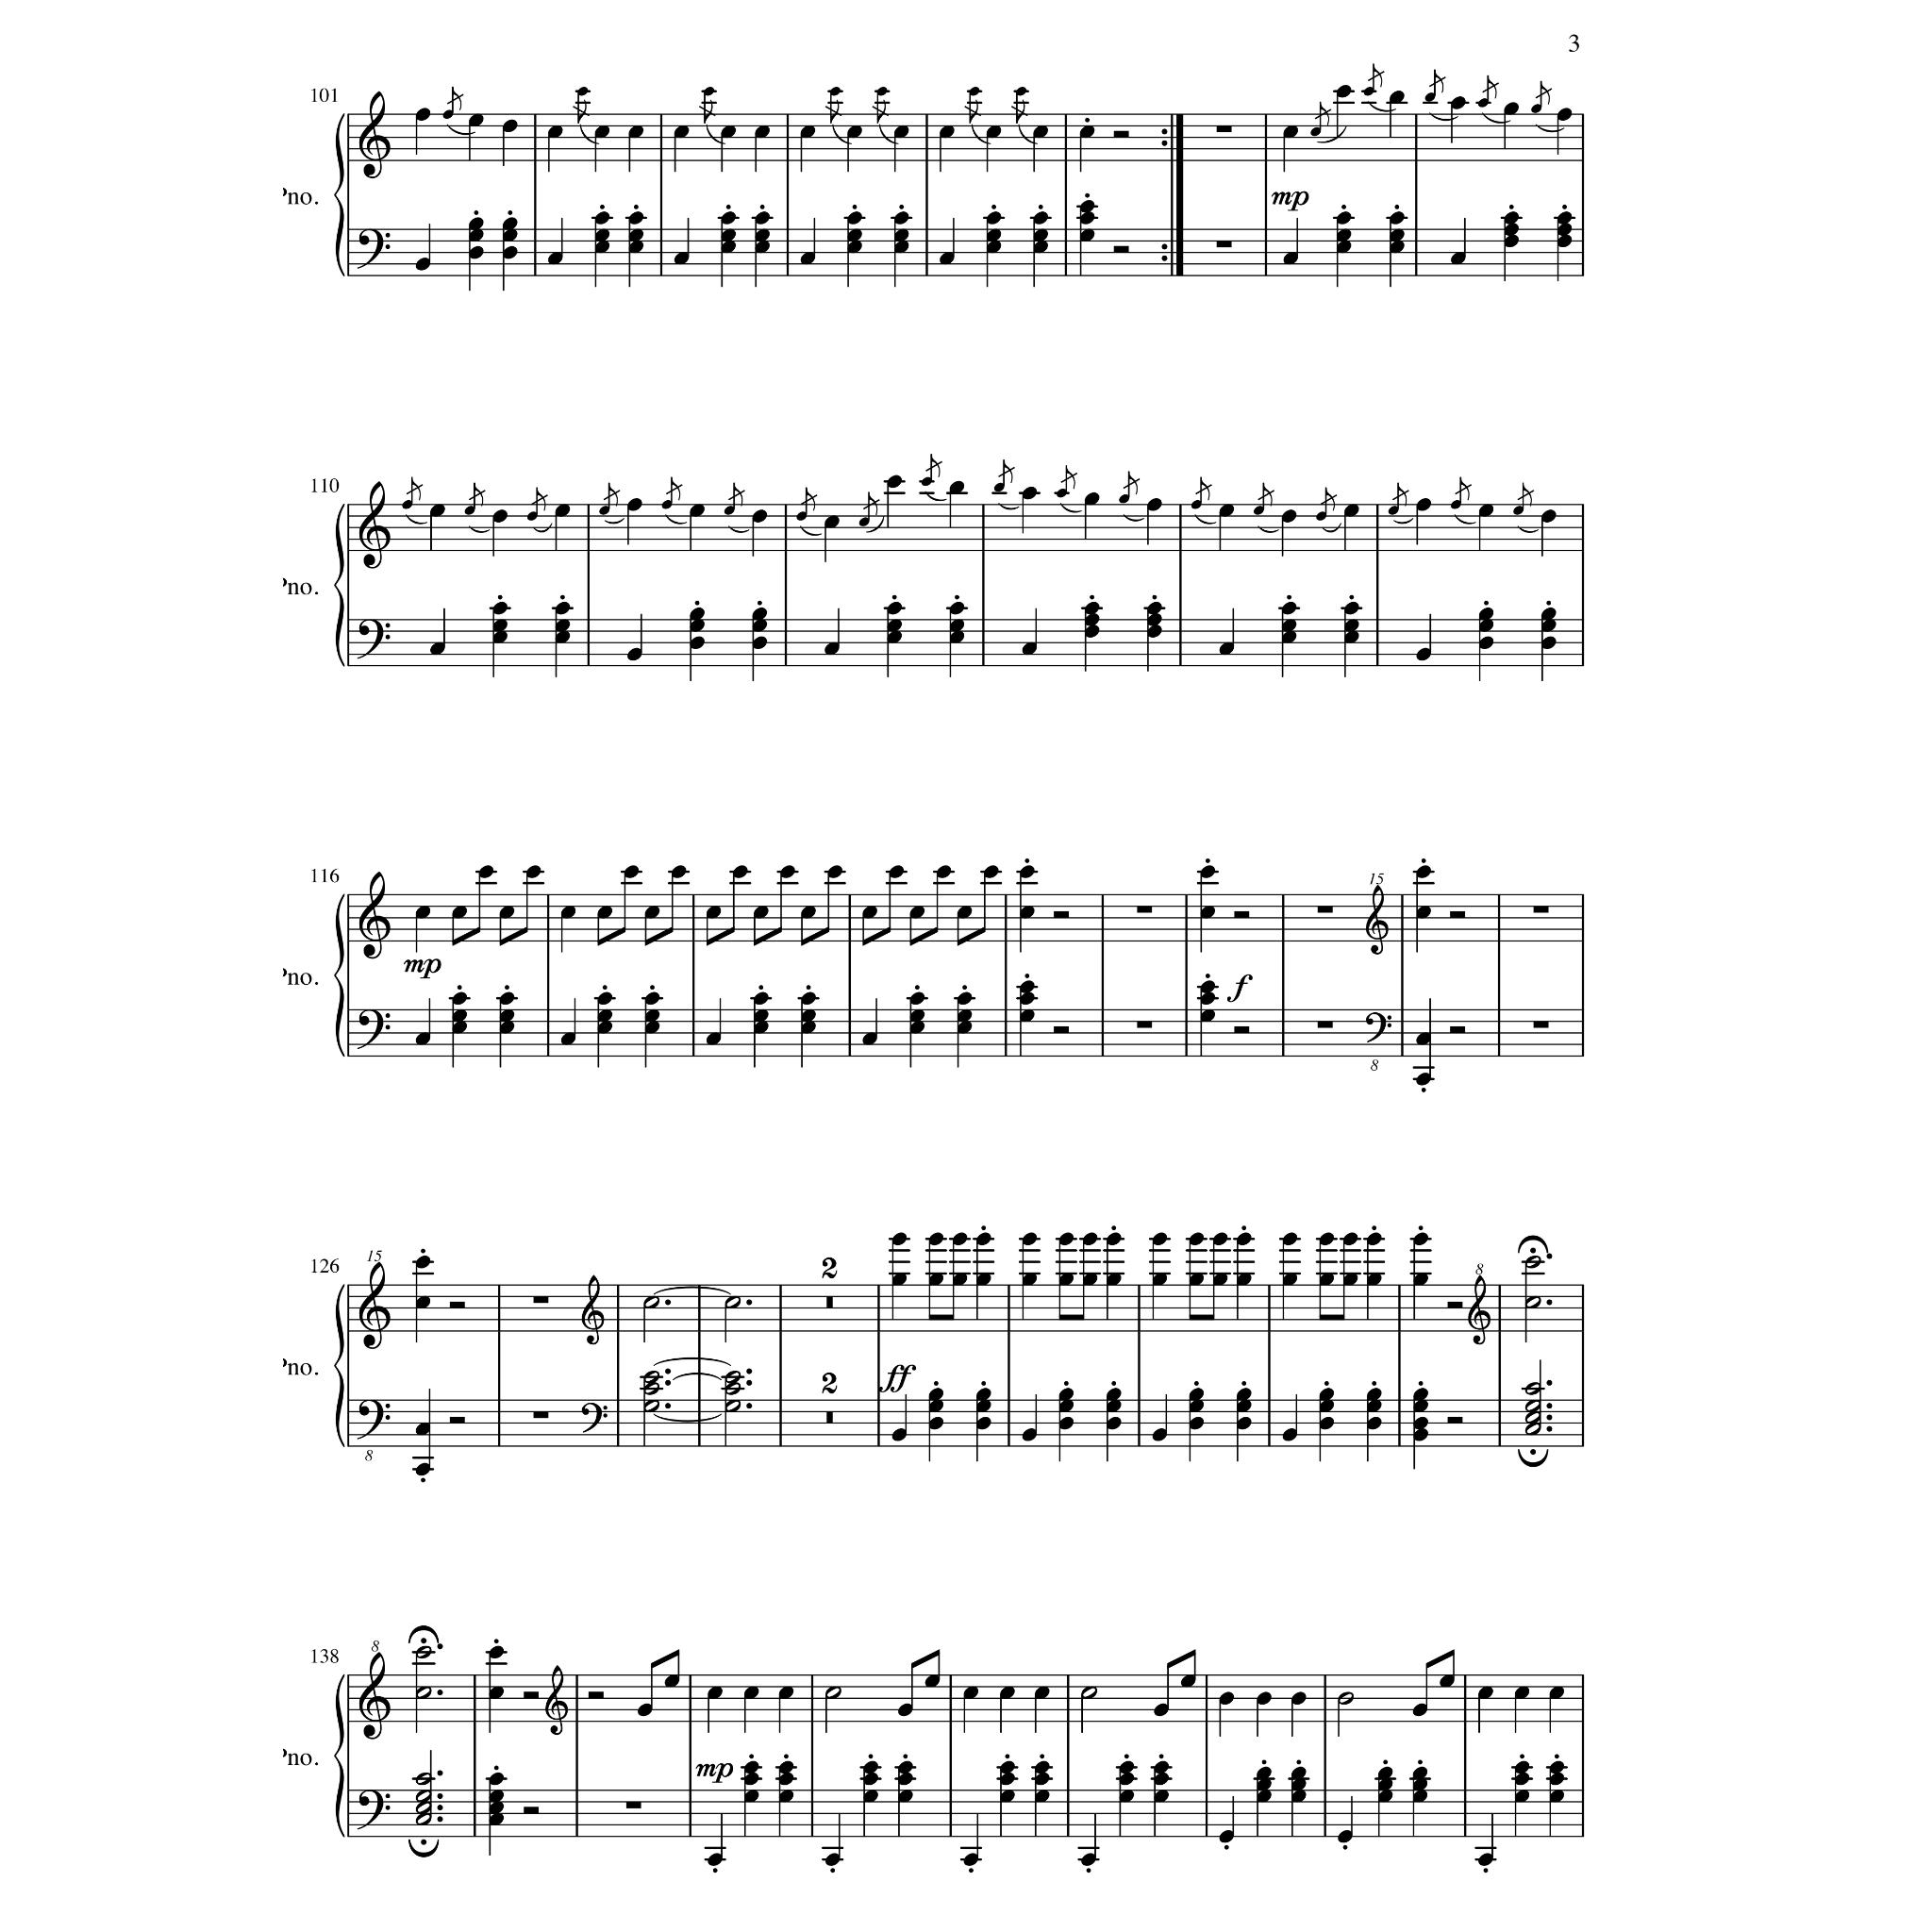brace: (333, 113, 345, 278), (333, 504, 345, 669), (333, 893, 345, 1058), (333, 1674, 345, 1838), (333, 1284, 345, 1447)
fClef: (357, 228, 391, 269), (357, 619, 391, 660), (357, 1008, 391, 1049), (357, 1399, 391, 1440), (357, 1790, 391, 1831)
flag8thDown: (571, 99, 591, 131), (870, 99, 890, 131), (964, 99, 982, 131), (1010, 99, 1028, 131), (824, 99, 842, 131), (699, 99, 717, 131)
flag8thUp: (1256, 476, 1276, 508), (602, 476, 621, 508), (1313, 96, 1332, 126), (1481, 69, 1500, 99), (446, 81, 465, 111), (1366, 57, 1384, 88), (1430, 62, 1447, 94), (1060, 458, 1077, 490), (1392, 476, 1410, 508), (1516, 476, 1534, 508), (469, 476, 487, 508), (862, 485, 879, 517), (998, 453, 1016, 485), (925, 448, 943, 479), (727, 476, 745, 508), (1534, 74, 1552, 104), (1320, 481, 1338, 511), (1194, 471, 1212, 501), (1122, 465, 1139, 495), (1454, 471, 1472, 501), (531, 481, 548, 511), (665, 471, 683, 501), (405, 471, 423, 501), (800, 481, 817, 511)
gClef: (359, 90, 391, 179), (359, 481, 391, 570), (359, 872, 391, 961), (359, 1261, 391, 1350), (359, 1652, 391, 1741)
noteheadBlack: (672, 251, 690, 265), (1539, 607, 1557, 621), (731, 865, 748, 879), (1412, 1428, 1430, 1442), (1412, 1272, 1430, 1286), (1412, 1231, 1430, 1246), (1412, 1399, 1430, 1414), (1412, 1387, 1430, 1401), (1341, 1231, 1359, 1246), (1341, 1272, 1359, 1286), (1283, 251, 1299, 265), (1079, 200, 1095, 214), (1557, 223, 1573, 237), (1389, 90, 1405, 104), (1451, 251, 1467, 265), (1504, 103, 1520, 117), (1504, 223, 1520, 237), (1451, 96, 1467, 110), (547, 251, 563, 265), (501, 246, 517, 260), (501, 218, 517, 232), (467, 246, 483, 260), (467, 218, 483, 232), (939, 251, 955, 265), (800, 251, 816, 265), (1345, 602, 1361, 616), (1219, 642, 1235, 656), (1281, 602, 1297, 616), (1083, 602, 1099, 616), (1083, 612, 1099, 626), (1083, 492, 1099, 506), (1021, 642, 1037, 656), (1021, 487, 1037, 501), (1146, 602, 1162, 616), (1146, 612, 1162, 626), (1146, 497, 1162, 511), (1415, 648, 1431, 662), (1415, 497, 1431, 511), (1477, 607, 1493, 621), (554, 602, 570, 616), (690, 607, 706, 621), (626, 648, 642, 662), (626, 497, 642, 511), (492, 602, 508, 616), (428, 642, 444, 656), (886, 602, 902, 616), (824, 642, 840, 656), (948, 602, 964, 616), (752, 607, 768, 621), (1200, 865, 1215, 879), (936, 865, 952, 879), (1019, 865, 1035, 879), (982, 865, 998, 879), (1415, 1072, 1431, 1086), (1415, 865, 1431, 879), (525, 865, 541, 879), (888, 865, 904, 879), (623, 865, 639, 879), (478, 865, 494, 879), (780, 865, 796, 879), (826, 865, 842, 879), (671, 865, 686, 879), (1281, 1428, 1297, 1442), (1281, 1231, 1297, 1246), (1281, 1272, 1297, 1286), (1318, 1387, 1334, 1401), (1318, 1399, 1334, 1414), (1318, 1231, 1334, 1246), (1318, 1272, 1334, 1286), (1152, 1428, 1168, 1442), (1189, 1387, 1205, 1401), (1189, 1399, 1205, 1414), (1152, 1272, 1168, 1286), (1189, 1231, 1205, 1246), (1189, 1272, 1205, 1286), (1152, 1231, 1168, 1246), (1235, 1387, 1251, 1401), (1235, 1399, 1251, 1414), (1235, 1231, 1251, 1246), (1235, 1272, 1251, 1286), (1212, 1231, 1228, 1246), (1212, 1272, 1228, 1286), (1366, 1387, 1382, 1401), (1366, 1399, 1382, 1414), (1366, 1231, 1382, 1246), (1366, 1272, 1382, 1286), (414, 1463, 430, 1477), (414, 1422, 430, 1437), (1021, 1272, 1037, 1286), (1021, 1231, 1037, 1246), (1021, 1428, 1037, 1442), (977, 1387, 993, 1401), (977, 1399, 993, 1414), (977, 1231, 993, 1246), (977, 1272, 993, 1286), (952, 1231, 968, 1246), (1058, 1399, 1074, 1414), (1081, 1231, 1097, 1246), (1081, 1272, 1097, 1286), (1058, 1387, 1074, 1401), (1058, 1231, 1074, 1246), (1058, 1272, 1074, 1286), (892, 1272, 908, 1286), (892, 1231, 908, 1246), (892, 1428, 908, 1442), (952, 1272, 968, 1286), (927, 1272, 943, 1286), (927, 1231, 943, 1246), (927, 1399, 943, 1414), (927, 1387, 943, 1401), (1292, 1789, 1307, 1803), (1219, 1829, 1235, 1844), (1180, 1674, 1196, 1688), (1256, 1778, 1272, 1792), (1256, 1789, 1272, 1803), (1256, 1766, 1272, 1780), (1033, 1760, 1049, 1775), (1033, 1789, 1049, 1803), (1000, 1760, 1016, 1775), (1000, 1789, 1016, 1803), (1118, 1789, 1134, 1803), (1118, 1760, 1134, 1775), (1154, 1789, 1169, 1803), (1154, 1760, 1169, 1775), (1548, 1760, 1564, 1775), (1548, 1789, 1564, 1803), (1338, 1829, 1353, 1844), (1292, 1766, 1307, 1780), (1438, 1674, 1454, 1688), (1292, 1778, 1307, 1792), (1412, 1766, 1428, 1780), (1412, 1778, 1428, 1792), (1412, 1789, 1428, 1803), (1378, 1766, 1394, 1780), (1378, 1778, 1394, 1792), (1378, 1789, 1394, 1803), (663, 1674, 679, 1688), (488, 1645, 504, 1660), (488, 1789, 504, 1803), (863, 1789, 879, 1803), (924, 1674, 939, 1688), (897, 1760, 913, 1775), (897, 1789, 913, 1803), (863, 1760, 879, 1775), (743, 1760, 759, 1775), (743, 1789, 759, 1803), (778, 1789, 794, 1803), (778, 1760, 794, 1775), (672, 126, 690, 138), (1539, 619, 1557, 632), (1539, 637, 1557, 649), (1539, 510, 1557, 522), (559, 1033, 577, 1046), (559, 906, 577, 918), (1412, 1417, 1430, 1430), (1106, 1387, 1120, 1401), (1106, 1399, 1120, 1414), (1106, 1272, 1120, 1286), (1106, 1231, 1120, 1246), (1514, 1789, 1529, 1803), (1514, 1760, 1529, 1775), (1283, 126, 1299, 138), (1079, 230, 1095, 242), (1079, 126, 1095, 138), (985, 212, 1001, 225), (1079, 212, 1095, 225), (985, 241, 1001, 253), (985, 126, 1001, 138), (985, 230, 1001, 242), (1557, 212, 1573, 225), (1557, 235, 1573, 248), (1557, 108, 1573, 120), (1504, 212, 1520, 225), (1389, 241, 1405, 253), (1389, 230, 1405, 242), (1389, 212, 1405, 225), (1336, 241, 1352, 253), (1336, 230, 1352, 242), (1336, 212, 1352, 225), (1504, 235, 1520, 248), (1336, 85, 1352, 97), (594, 126, 610, 138), (594, 241, 610, 253), (594, 230, 610, 242), (594, 212, 610, 225), (628, 212, 644, 225), (628, 126, 644, 138), (628, 241, 644, 253), (628, 230, 644, 242), (414, 108, 430, 120), (414, 258, 430, 271), (501, 120, 517, 133), (501, 230, 517, 242), (547, 126, 563, 138), (467, 230, 483, 242), (467, 115, 483, 127), (847, 126, 863, 138), (847, 241, 863, 253), (847, 230, 863, 242), (847, 212, 863, 225), (939, 126, 955, 138), (893, 126, 909, 138), (893, 241, 909, 253), (893, 230, 909, 242), (893, 212, 909, 225), (720, 230, 736, 242), (754, 212, 770, 225), (754, 230, 770, 242), (754, 241, 770, 253), (754, 126, 770, 138), (720, 212, 736, 225), (720, 241, 736, 253), (720, 126, 736, 138), (800, 126, 816, 138), (1345, 619, 1361, 632), (1219, 504, 1235, 517), (1345, 632, 1361, 644), (1345, 504, 1361, 517), (1281, 619, 1297, 632), (1281, 632, 1297, 644), (1281, 510, 1297, 522), (1083, 625, 1099, 637), (1146, 625, 1162, 637), (1477, 619, 1493, 632), (1477, 637, 1493, 649), (1477, 504, 1493, 517), (554, 619, 570, 632), (554, 632, 570, 644), (554, 504, 570, 517), (690, 619, 706, 632), (690, 637, 706, 649), (690, 504, 706, 517), (492, 619, 508, 632), (492, 632, 508, 644), (492, 510, 508, 522), (428, 504, 444, 517), (886, 619, 902, 632), (886, 632, 902, 644), (886, 476, 902, 488), (824, 517, 840, 529), (948, 619, 964, 632), (948, 632, 964, 644), (948, 481, 964, 494), (752, 619, 768, 632), (752, 637, 768, 649), (752, 510, 768, 522), (1200, 1010, 1215, 1023), (1200, 993, 1215, 1005), (1200, 982, 1215, 994), (1200, 906, 1215, 918), (955, 993, 971, 1005), (955, 1010, 971, 1023), (955, 1021, 971, 1033), (955, 906, 971, 918), (909, 993, 925, 1005), (909, 1010, 925, 1023), (909, 1021, 925, 1033), (909, 906, 925, 918), (1019, 982, 1035, 994), (1019, 993, 1035, 1005), (1019, 1010, 1035, 1023), (1019, 906, 1035, 918), (1415, 1033, 1431, 1046), (1415, 906, 1431, 918), (644, 993, 660, 1005), (644, 1010, 660, 1023), (644, 1021, 660, 1033), (644, 906, 660, 918), (596, 993, 612, 1005), (596, 1010, 612, 1023), (596, 1021, 612, 1033), (596, 906, 612, 918), (414, 1033, 430, 1046), (414, 906, 430, 918), (499, 993, 515, 1005), (499, 1010, 515, 1023), (499, 1021, 515, 1033), (499, 906, 515, 918), (451, 993, 467, 1005), (451, 1010, 467, 1023), (451, 1021, 467, 1033), (451, 906, 467, 918), (800, 993, 816, 1005), (800, 1010, 816, 1023), (800, 1021, 816, 1033), (800, 906, 816, 918), (752, 993, 768, 1005), (752, 1010, 768, 1023), (862, 1033, 878, 1046), (862, 906, 878, 918), (706, 906, 722, 918), (706, 1033, 722, 1046), (752, 906, 768, 918), (752, 1021, 768, 1033), (1318, 1417, 1334, 1430), (1189, 1417, 1205, 1430), (1235, 1417, 1251, 1430), (1366, 1417, 1382, 1430), (414, 1297, 430, 1309), (414, 1256, 430, 1269), (977, 1417, 993, 1430), (1058, 1417, 1074, 1430), (927, 1417, 943, 1430), (1219, 1691, 1235, 1704), (1292, 1691, 1307, 1704), (1256, 1691, 1272, 1704), (1033, 1773, 1049, 1785), (1081, 1854, 1097, 1867), (1033, 1686, 1049, 1698), (1000, 1773, 1016, 1785), (1000, 1686, 1016, 1698), (1118, 1773, 1134, 1785), (1154, 1704, 1169, 1716), (1154, 1773, 1169, 1785), (1548, 1773, 1564, 1785), (1548, 1686, 1564, 1698), (1477, 1686, 1493, 1698), (1477, 1854, 1493, 1867), (1412, 1704, 1428, 1716), (708, 1686, 724, 1698), (708, 1854, 724, 1867), (637, 1704, 653, 1716), (488, 1686, 504, 1698), (488, 1813, 504, 1826), (488, 1801, 504, 1813), (488, 1773, 504, 1785), (962, 1854, 978, 1867), (824, 1854, 840, 1867), (897, 1773, 913, 1785), (897, 1704, 913, 1716), (863, 1773, 879, 1785), (962, 1686, 978, 1698), (743, 1773, 759, 1785), (743, 1686, 759, 1698), (778, 1686, 794, 1698), (778, 1773, 794, 1785), (1033, 230, 1047, 242), (1033, 212, 1047, 225), (1033, 241, 1047, 253), (1033, 126, 1047, 138), (1106, 1417, 1120, 1430), (1514, 1686, 1529, 1698), (1514, 1773, 1529, 1785), (1530, 104, 1543, 115), (1424, 92, 1437, 103), (1362, 87, 1375, 97), (876, 87, 888, 97), (702, 87, 715, 97), (1315, 511, 1327, 522), (858, 517, 870, 527), (993, 483, 1005, 494), (970, 87, 980, 97), (1309, 127, 1320, 138), (1016, 87, 1026, 97), (1477, 97, 1488, 108), (577, 87, 587, 97), (442, 110, 453, 120), (830, 87, 840, 97), (1056, 488, 1067, 499), (1191, 499, 1201, 510), (1118, 494, 1129, 504), (1451, 499, 1461, 510), (662, 499, 672, 510), (402, 499, 412, 510), (527, 511, 538, 522), (796, 511, 807, 522), (1387, 506, 1399, 515), (1513, 506, 1525, 515), (464, 506, 476, 515), (920, 478, 932, 487), (1253, 506, 1263, 515), (598, 506, 609, 515), (724, 506, 734, 515)
noteheadHalf: (642, 1399, 660, 1414), (642, 1382, 660, 1396), (1525, 1382, 1541, 1396), (1525, 1399, 1541, 1414), (1525, 1422, 1541, 1437), (725, 1399, 741, 1414), (725, 1382, 741, 1396), (416, 1645, 432, 1660), (416, 1789, 432, 1803), (642, 1297, 660, 1309), (642, 1371, 660, 1384), (1081, 1686, 1099, 1698), (824, 1686, 842, 1698), (1525, 1412, 1541, 1424), (1525, 1256, 1541, 1269), (1525, 1297, 1541, 1309), (725, 1297, 741, 1309), (725, 1371, 741, 1384), (1338, 1691, 1353, 1704), (416, 1686, 432, 1698), (416, 1813, 432, 1826), (416, 1801, 432, 1813), (416, 1773, 432, 1785)
restHNr: (821, 1371, 837, 1396), (821, 1256, 837, 1281)
restHalf: (587, 1691, 605, 1698), (1113, 246, 1129, 253), (1113, 131, 1129, 138), (1053, 1026, 1069, 1033), (1053, 911, 1069, 918), (1449, 1026, 1465, 1033), (1449, 911, 1465, 918), (1233, 1026, 1249, 1033), (1233, 911, 1249, 918), (1447, 1417, 1463, 1424), (1447, 1302, 1463, 1309), (449, 1417, 465, 1424), (449, 1302, 465, 1309), (524, 1691, 540, 1698), (524, 1806, 540, 1813)
restWhole: (1215, 241, 1231, 249), (1215, 126, 1231, 134), (1316, 906, 1332, 915), (1136, 906, 1152, 915), (1136, 1021, 1152, 1030), (1316, 1021, 1332, 1030), (1532, 1021, 1548, 1030), (1532, 906, 1548, 915), (625, 1801, 640, 1810), (533, 1297, 548, 1304), (533, 1412, 548, 1419), (826, 1412, 833, 1424), (826, 1297, 833, 1309)
